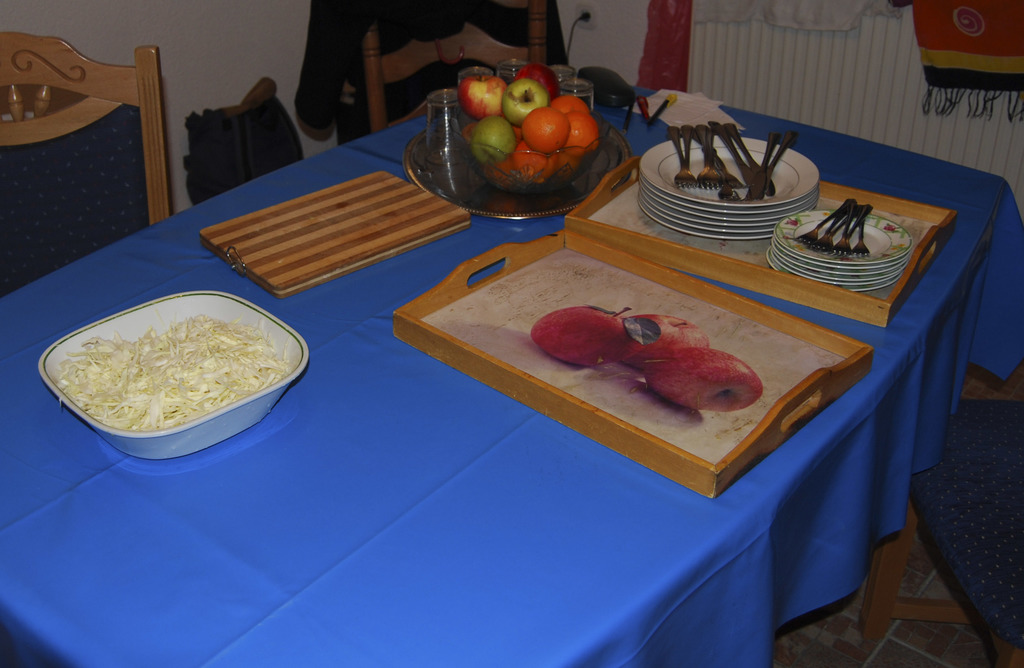Apple: (641, 344, 762, 413), (526, 301, 640, 366), (623, 312, 712, 370), (456, 71, 507, 120), (501, 79, 548, 128), (471, 116, 516, 163), (513, 62, 560, 99)
